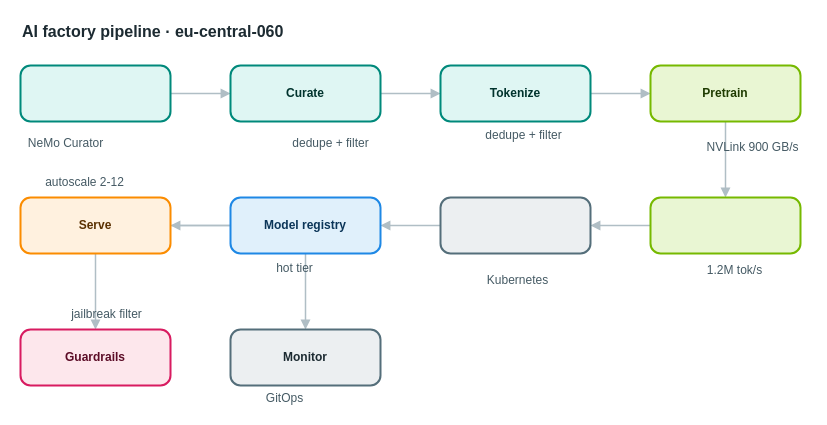
The diagram is 827 pixels wide and 425 high, and some of its shapes have lost their labels. The shapes that lost their labels are listed below. From the top down, each one's box as (x1, y1, x2, y2) in pixels, then its label:
(19, 64, 171, 122): Ingest
(439, 196, 591, 254): Evaluate
(649, 196, 801, 254): Fine-tune
